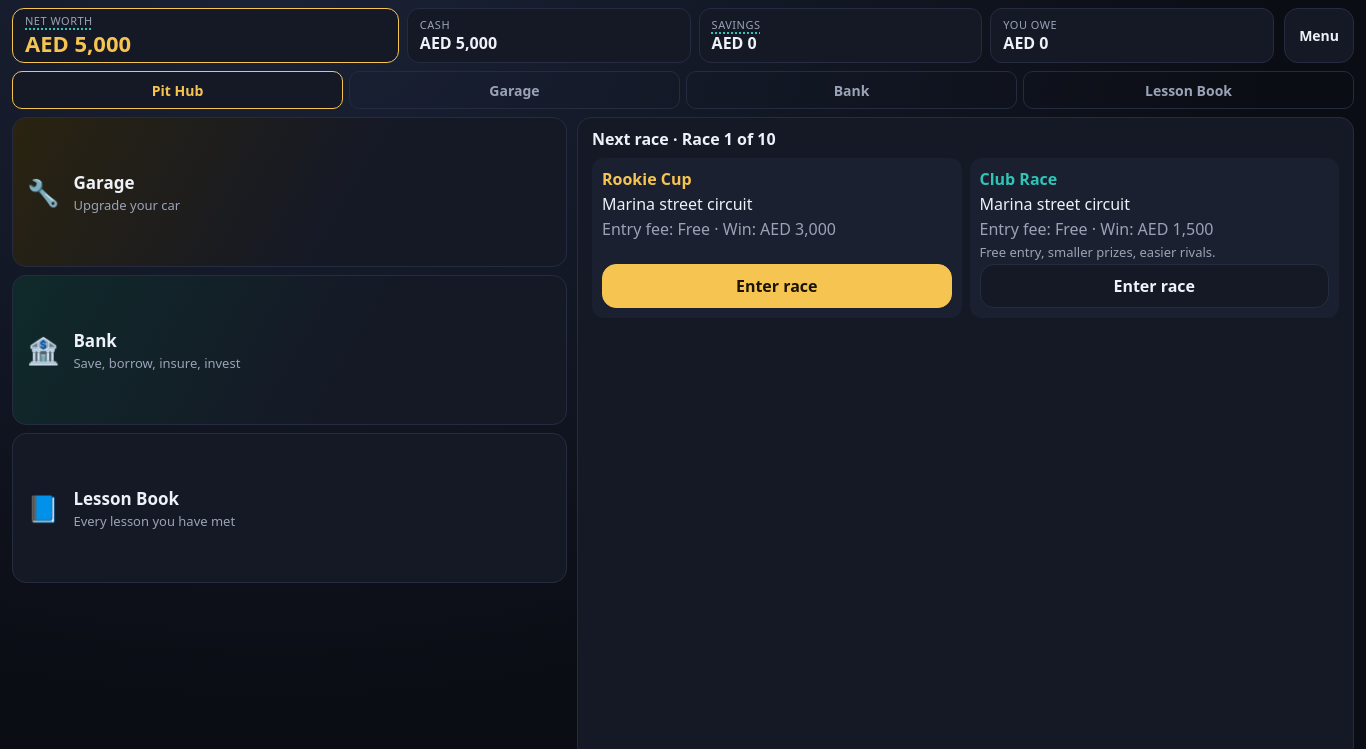
Test: bank repossession warning wording › Career Season keeps the number of strikes
Click the button with test id "tab-bank": (852, 90) [686, 71, 1017, 109]
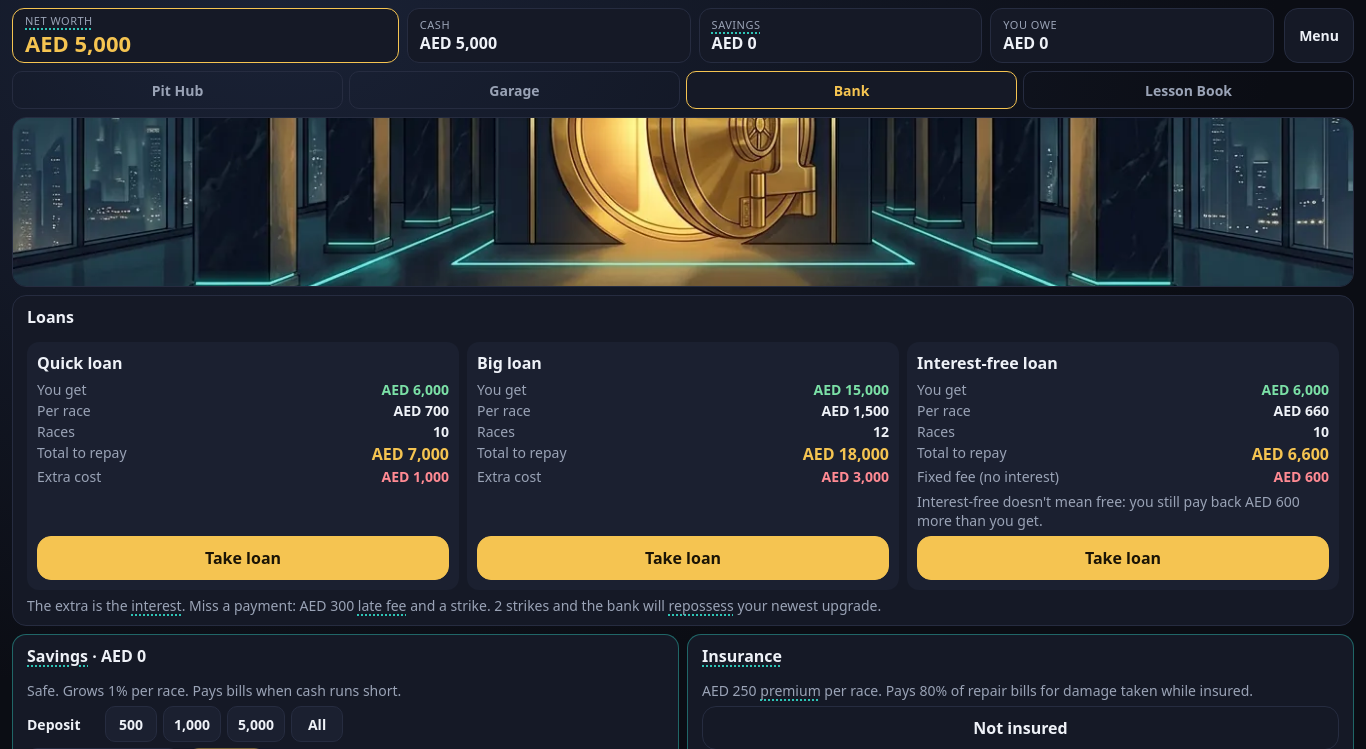
expect the element with test id "bank-loans" shows "2 strikes and the bank will": met, box [406, 596, 668, 615]
